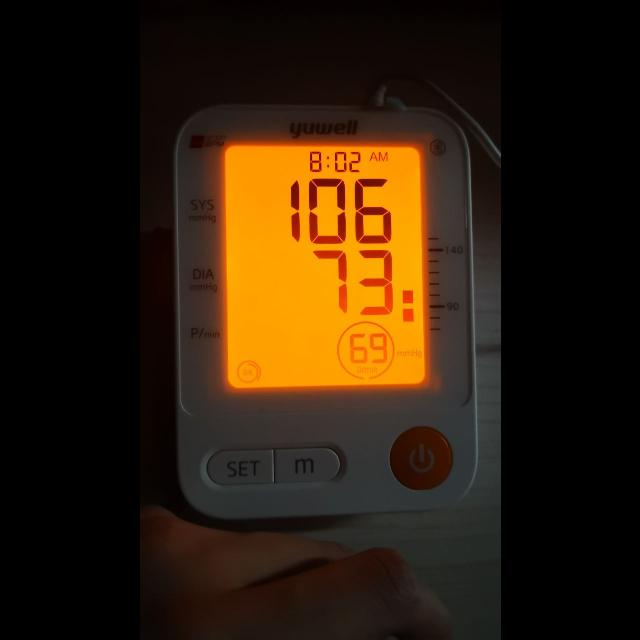Blood-Pressure-Monitor: (170, 102, 476, 522)
